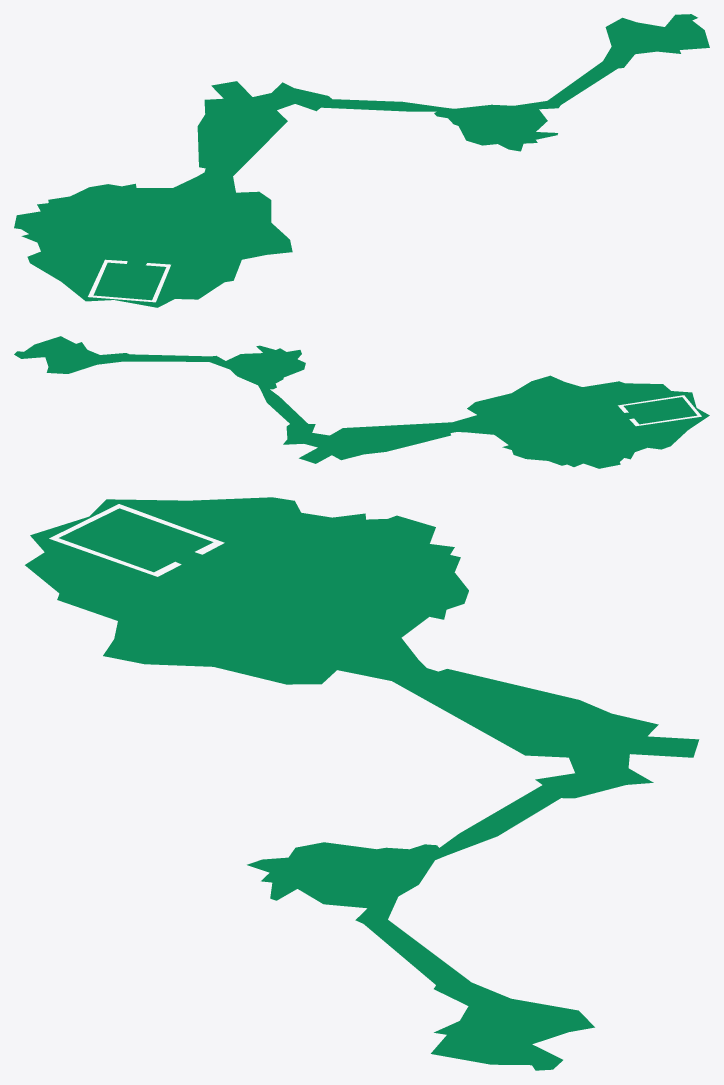
Rendered from NevMesh.glb.
The picture shows the model from 3 angles, top to bottom: view 1: azimuth 30°, elevation 25°; view 2: azimuth 150°, elevation 25°; view 3: azimuth 270°, elevation 25°; orthographic projection. The views are drawn at different scales.
Parts seen in each view (by area): view 1: Ground plane.001; view 2: Ground plane.001; view 3: Ground plane.001.
Boxes of the visible parts, x1=… form: Ground plane.001: x1=14, y1=14, x2=709, y2=307; Ground plane.001: x1=14, y1=336, x2=709, y2=468; Ground plane.001: x1=25, y1=497, x2=699, y2=1070.
Bounding box in the file's own units: 67.74 × 0 × 33.69.
